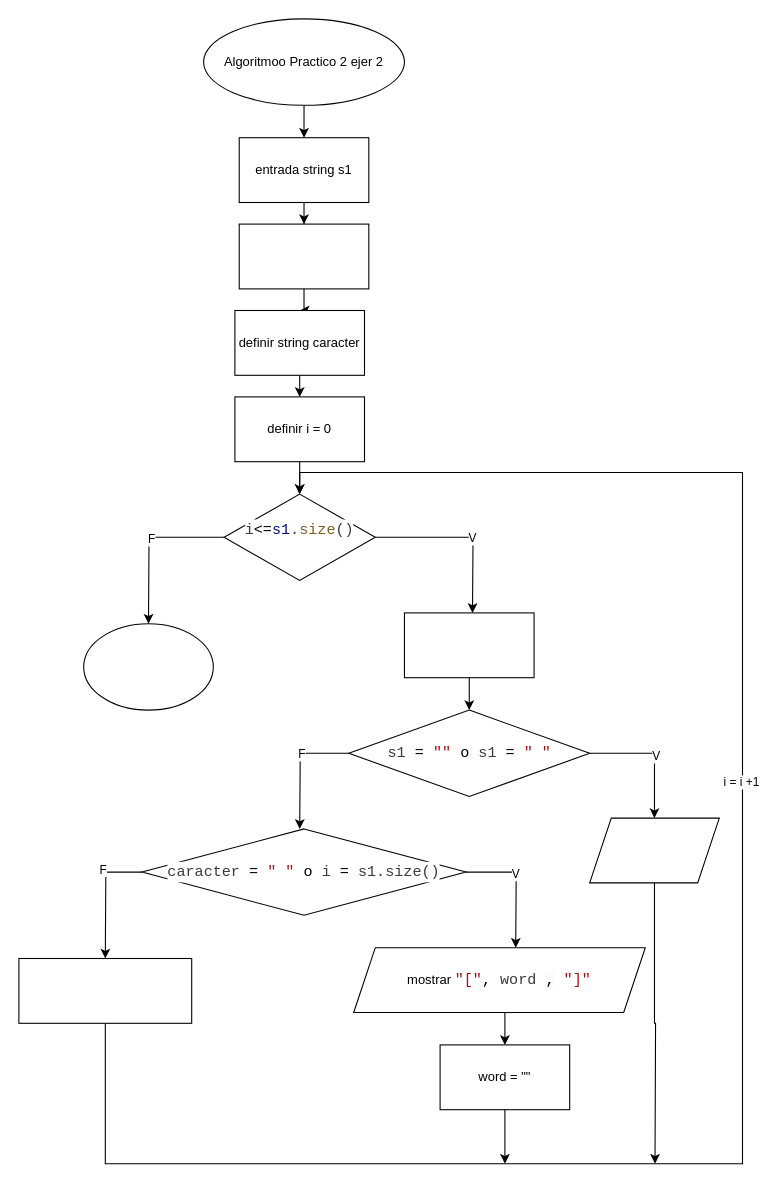
Some shapes in this 778 by 1191 pixel diagram are drawn without their labels. Each missing label, with the box of its shape:
caracter = s1[i]: (403, 612, 534, 678)
definir string word = "": (238, 223, 369, 289)
FinAlgoritmo: (83, 623, 213, 710)
mostrar "": (589, 817, 719, 883)
word = word + caracter: (18, 957, 192, 1023)
